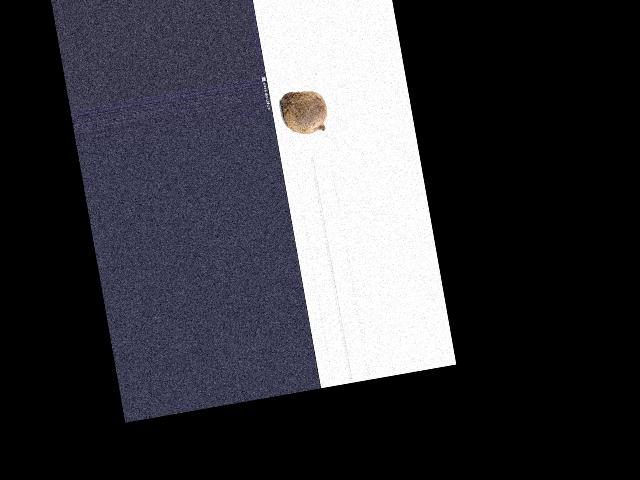beet: (278, 87, 330, 138)
